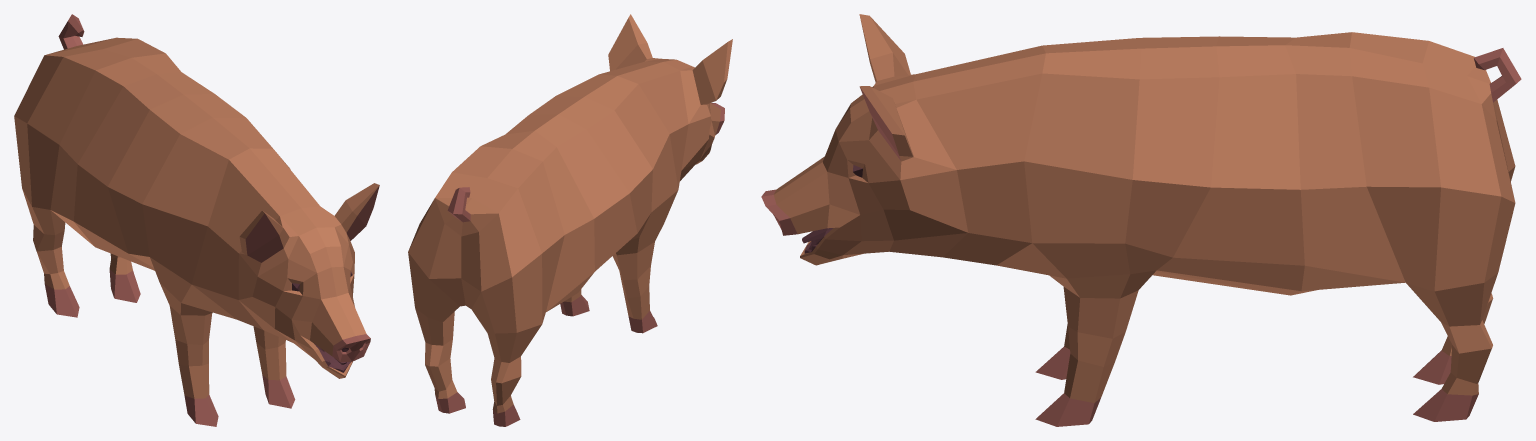
File: pig.fbx
3 views of the same model, side by side, from view 1: azimuth 30°, elevation 25°; view 2: azimuth 150°, elevation 25°; view 3: azimuth 270°, elevation 25° (orthographic). The views are drawn at different scales.
Parts seen in each view (by area): view 1: pig; view 2: pig; view 3: pig.
Boxes of the visible parts, bbox=[...] form: pig: bbox=[14, 14, 379, 426]; pig: bbox=[408, 14, 732, 426]; pig: bbox=[761, 14, 1521, 426].
Bounding box in the file's own units: 0.5366 × 0.8965 × 1.76.
